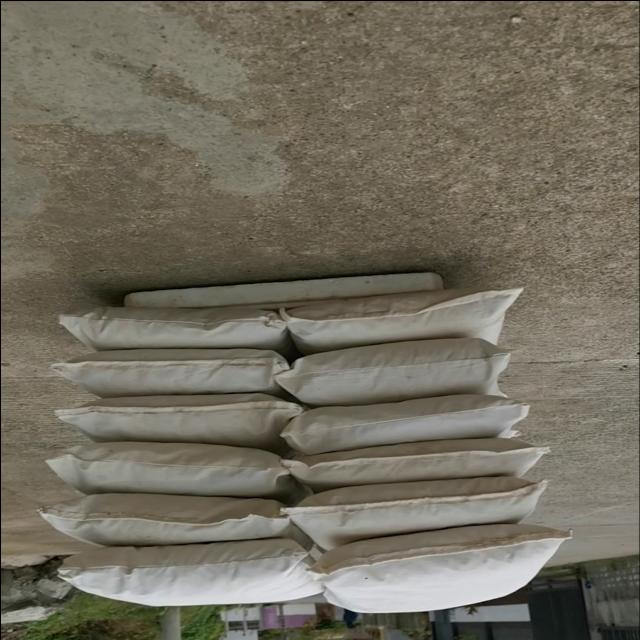Sack: (312, 519, 566, 626), (290, 472, 558, 551), (52, 535, 303, 618), (282, 281, 526, 353), (46, 433, 296, 503), (35, 487, 292, 552), (283, 392, 533, 457), (281, 336, 513, 404), (54, 299, 289, 363), (287, 431, 549, 487), (57, 393, 287, 452), (59, 344, 291, 400)
